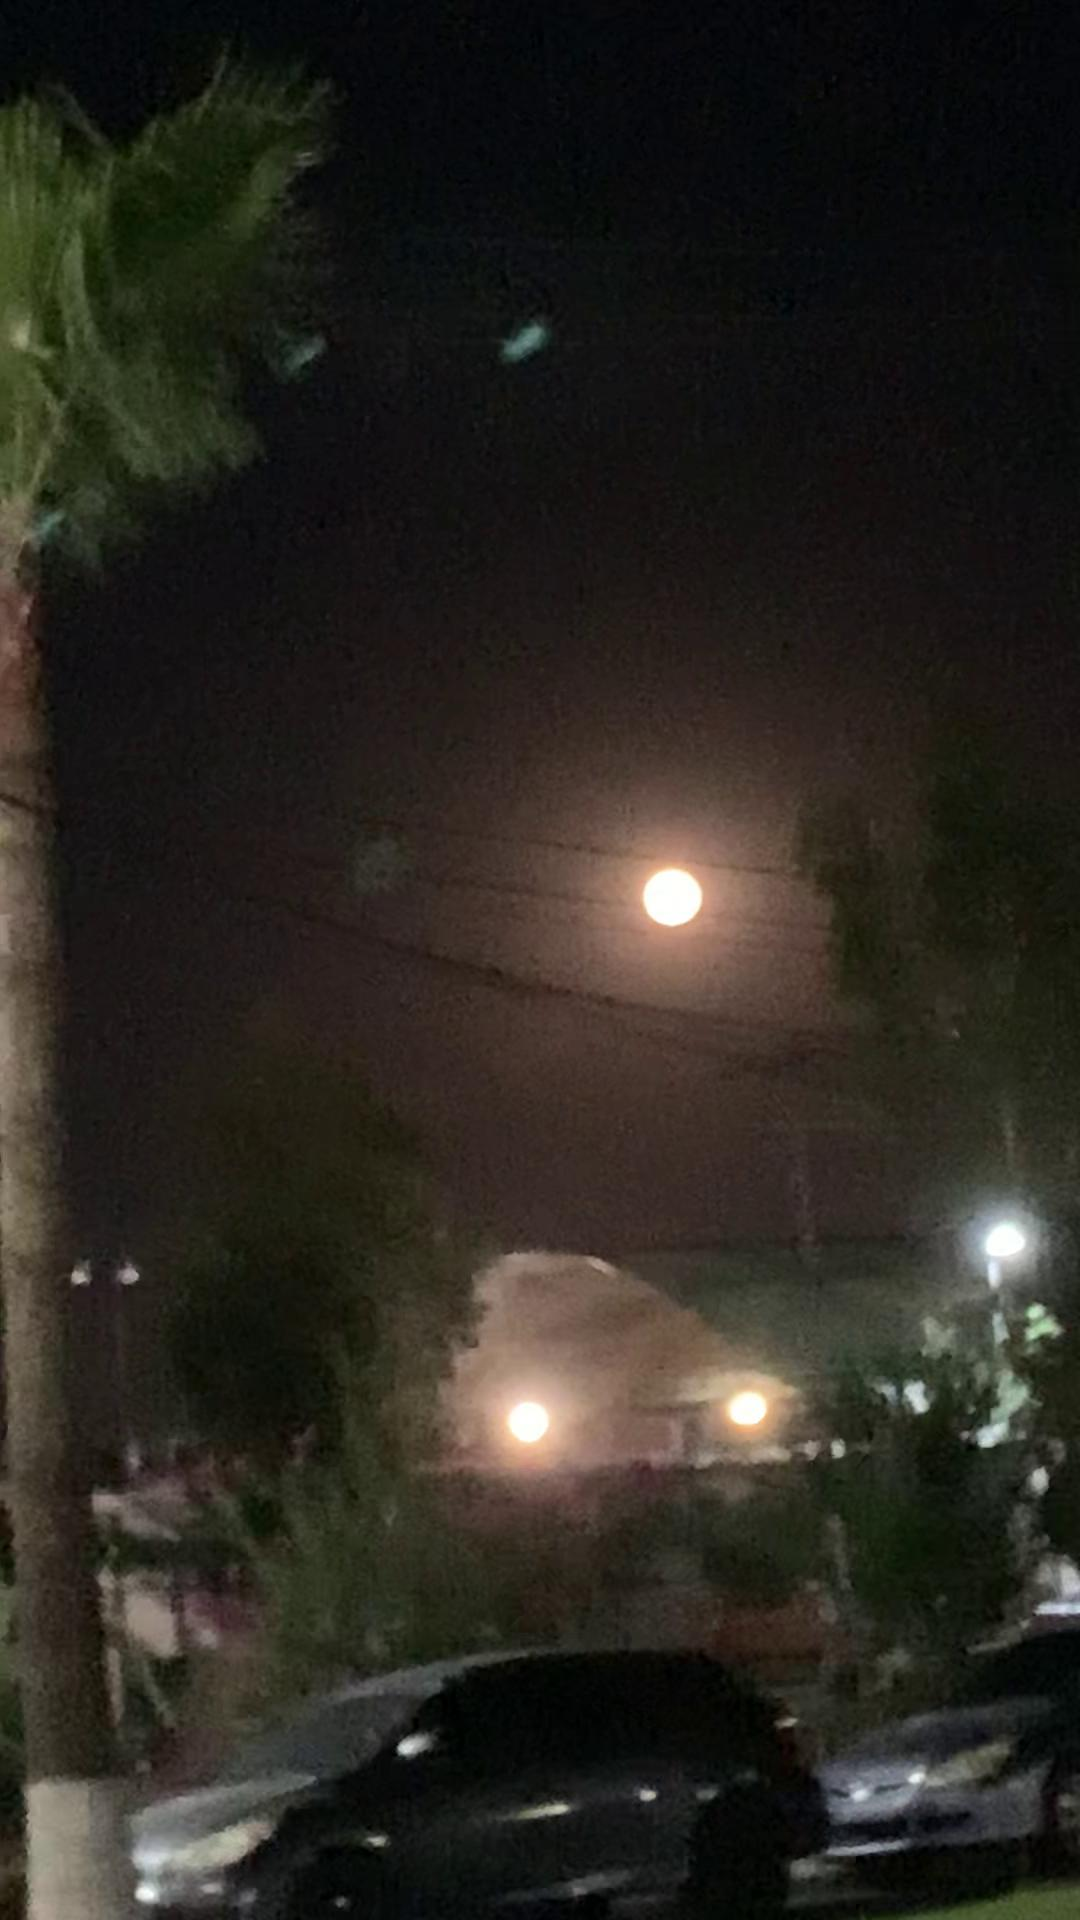moon: (615, 860, 713, 942)
